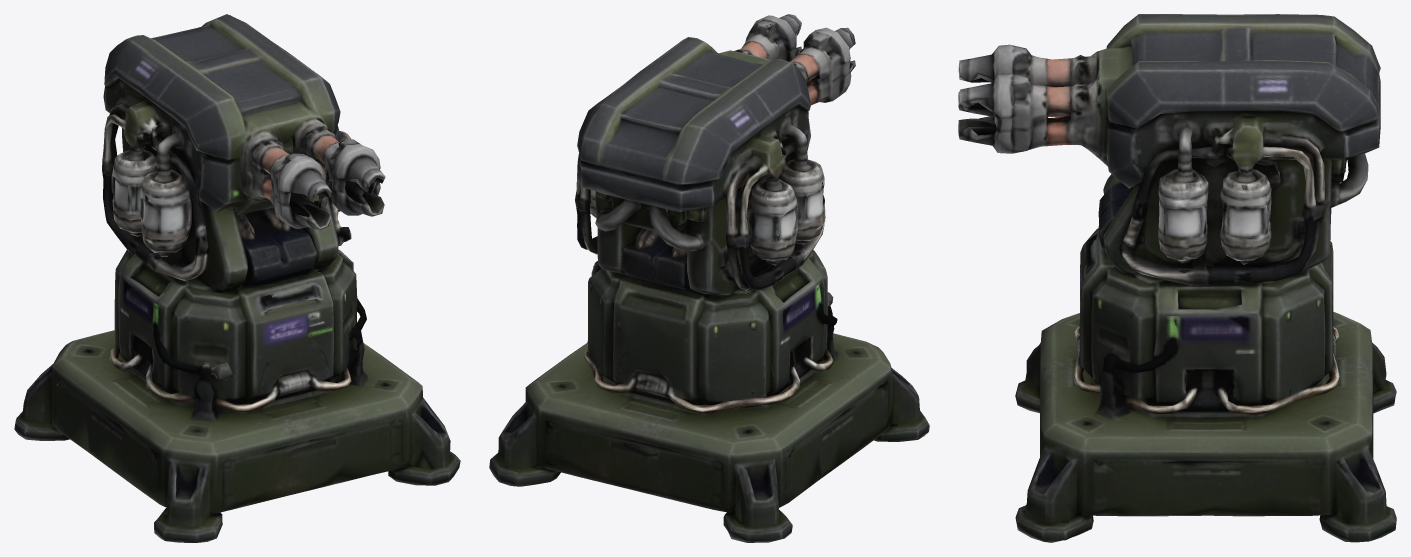
File: dzn-arc-battery-defence-tower-level-2-one-complete-static-textured-3d-game-asset.glb
3 views of the same model, side by side, from view 1: azimuth 30°, elevation 25°; view 2: azimuth 150°, elevation 25°; view 3: azimuth 270°, elevation 25° (orthographic). The views are drawn at different scales.
Visible parts, largest first — view 1: world; view 2: world; view 3: world.
Boxes of the visible parts, x1=… form: world: x1=14, y1=14, x2=460, y2=542; world: x1=489, y1=14, x2=929, y2=542; world: x1=958, y1=14, x2=1396, y2=542.
Size of the model in its own units: 0.8141 by 1 by 0.9428.
Materials: 1 (1 with a texture image).
